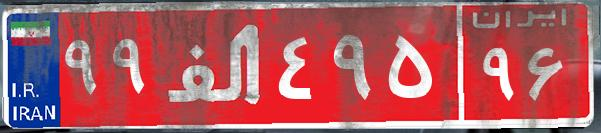4: (273, 28, 330, 110)
5: (385, 28, 445, 110)
6: (525, 38, 570, 115)
9: (330, 28, 385, 110), (57, 26, 110, 107), (475, 38, 525, 113), (110, 28, 158, 105)
الف: (158, 15, 273, 115)
